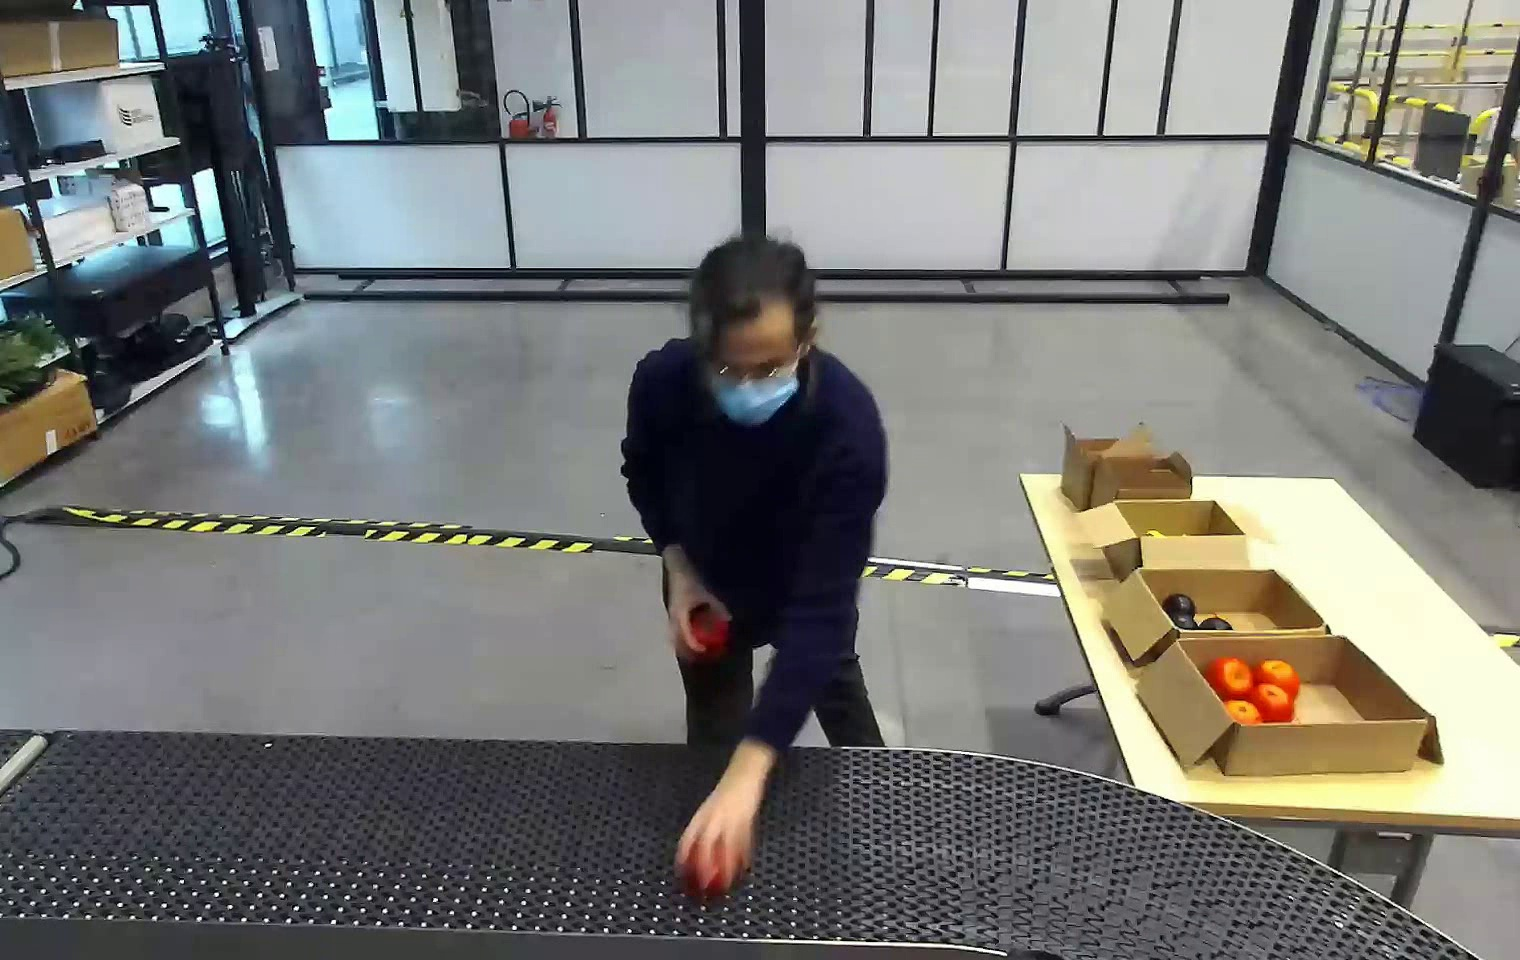Main droite: (642, 697, 737, 800)
